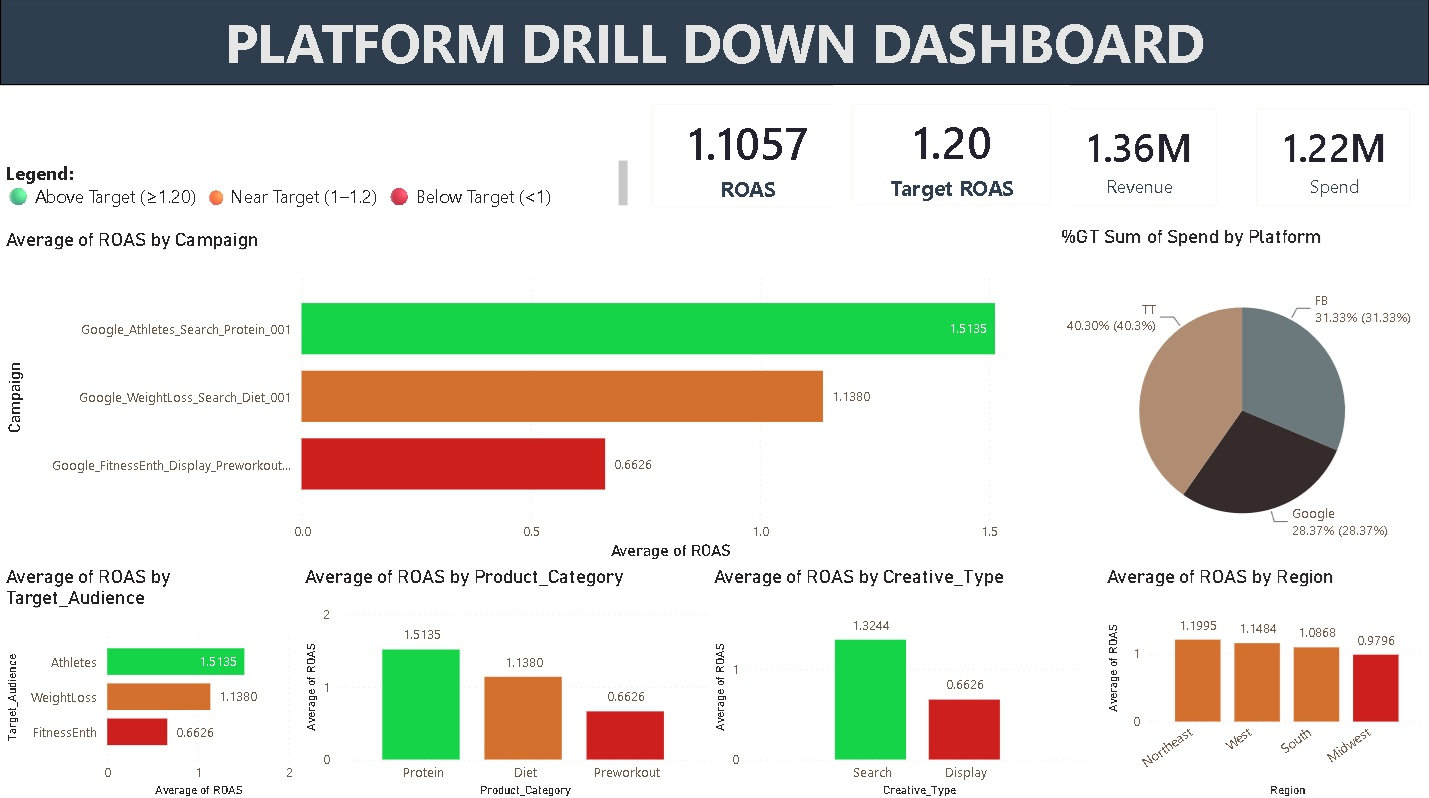

This screenshot's page, from the dashboard's own definition file:
{"tool":"powerbi","page":{"name":"Channel Drill Down","canvas":[1280,720],"ordinal":3},"visuals":[{"type":"cardVisual","fields":{"Data":["Sum(Sheet1.Spend)"]},"box":[1107.8,81.1,172.2,122.2],"z":0},{"type":"cardVisual","fields":{"Data":["Avg(Sheet1.ROAS)"]},"box":[566.7,77.8,204.4,127.8],"z":1000},{"type":"clusteredColumnChart","fields":{"Category":["Sheet1.Creative_Type"],"Y":["Avg(Sheet1.ROAS)"]},"box":[634,507.8,345.6,212.2],"z":2000},{"type":"clusteredBarChart","fields":{"Category":["Sheet1.Target_Audience"],"Y":["Avg(Sheet1.ROAS)"]},"box":[0,507.8,267.8,212.2],"z":4000},{"type":"columnChart","fields":{"Category":["Sheet1.Product_Category"],"Y":["Avg(Sheet1.ROAS)"]},"box":[267.8,507.8,372.2,212.2],"z":5000},{"type":"textbox","box":[0,0,1280,77.8],"z":6000},{"type":"cardVisual","fields":{"Data":["Sum(Sheet1.Revenue)"]},"box":[931.1,81.1,176.7,122.2],"z":7000},{"type":"cardVisual","fields":{"Data":["Sheet1.Target ROA"]},"box":[745.6,77.8,212.2,125.6],"z":8000},{"type":"textbox","box":[0,141,567,65],"z":9000},{"type":"pieChart","fields":{"Y":["Divide(Sum(Sheet1.Spend), ScopedEval(Sum(Sheet1.Spend), []))"],"Category":["Sheet1.Campaign"]},"box":[945,206,335,302],"z":10000},{"type":"listSlicer","fields":{"Values":["Sheet1.Region"]},"box":[0,203.3,229.1,287.3],"z":11000},{"type":"barChart","fields":{"Category":["Sheet1.Campaign"],"Y":["Avg(Sheet1.ROAS)"]},"box":[0,204,945,302],"z":12000}]}

Visuals, with their boxes in screenshot pixels (x1, y1, x2, y2), scaled from the page's 1280x720 canvas onto the 1429x798 screenshot:
cardVisual - Sum(Sheet1.Spend): (left=1237, top=90, right=1428, bottom=225)
cardVisual - Avg(Sheet1.ROAS): (left=633, top=86, right=861, bottom=228)
clusteredColumnChart - Sheet1.Creative_Type x Avg(Sheet1.ROAS): (left=708, top=563, right=1094, bottom=797)
clusteredBarChart - Sheet1.Target_Audience x Avg(Sheet1.ROAS): (left=0, top=563, right=299, bottom=797)
columnChart - Sheet1.Product_Category x Avg(Sheet1.ROAS): (left=299, top=563, right=714, bottom=797)
textbox: (left=0, top=0, right=1428, bottom=86)
cardVisual - Sum(Sheet1.Revenue): (left=1039, top=90, right=1237, bottom=225)
cardVisual - Sheet1.Target ROA: (left=832, top=86, right=1069, bottom=225)
textbox: (left=0, top=156, right=633, bottom=228)
pieChart - Divide(Sum(Sheet1.Spend), ScopedEval(Sum(Sheet1.Spend), [])) x Sheet1.Campaign: (left=1055, top=228, right=1428, bottom=563)
listSlicer - Sheet1.Region: (left=0, top=225, right=256, bottom=544)
barChart - Sheet1.Campaign x Avg(Sheet1.ROAS): (left=0, top=226, right=1055, bottom=561)
